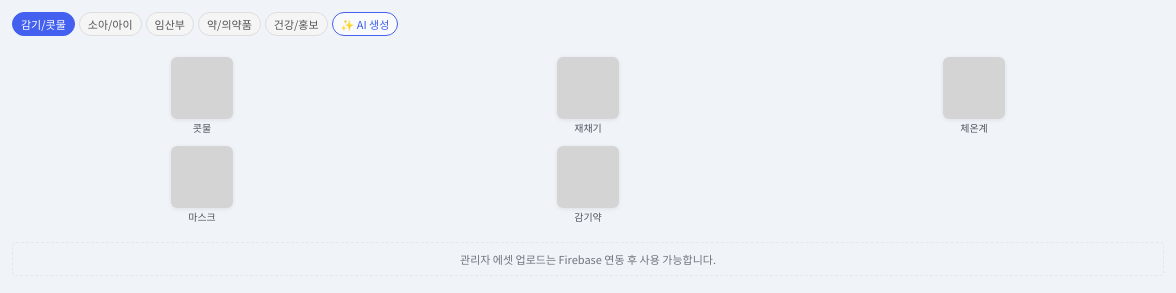
AssetPanel — AI 생성 탭 › AI 생성 탭 클릭 시 입력창과 생성 버튼이 표시된다
Click the button "✨ AI 생성": [365, 24] box [332, 12, 398, 36]
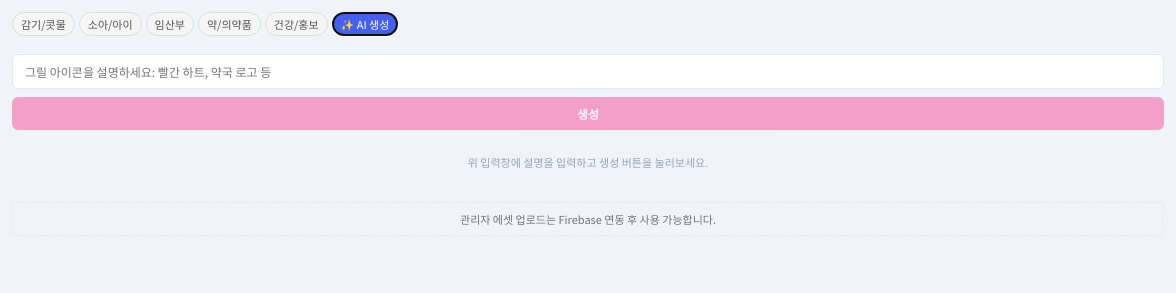
Result: the field with placeholder "그릴 아이콘을 설명하세요: 빨간 하트, 약국 로고 등" is shown at [12, 54, 1164, 89]
Result: the button "생성" is shown at [12, 97, 1164, 130]
